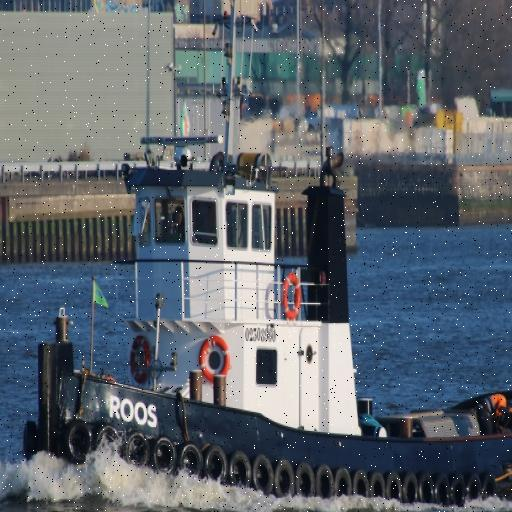tugboat: (19, 1, 512, 512)
